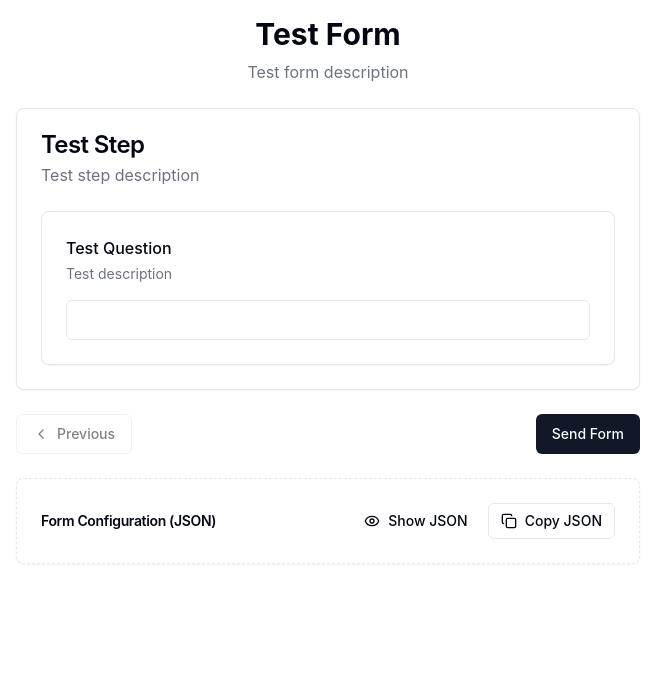
it: FormPreview Integration Tests › Form Submission › should submit form and show success message
# Fill the form
Type "Test Response" into the field at [328, 320], box [66,300,590,340]
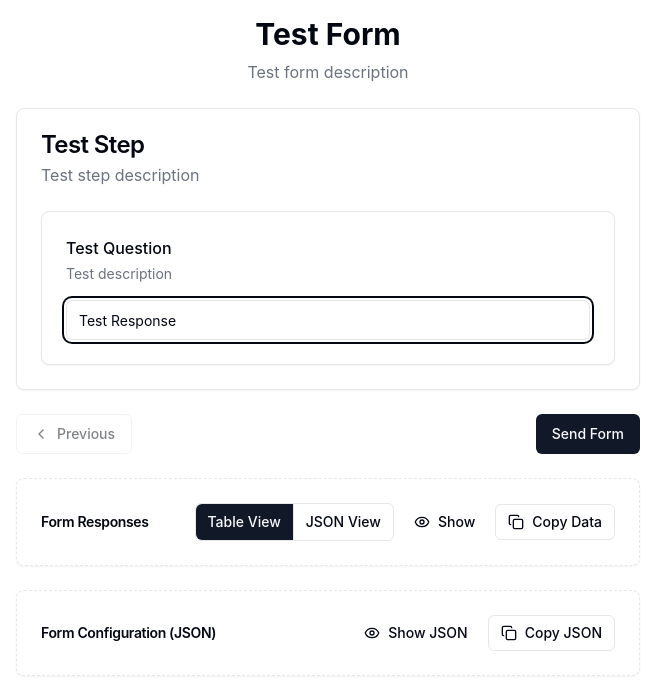
# Submit the form
Click the button "Send Form" at [588, 434], box [536,414,640,454]
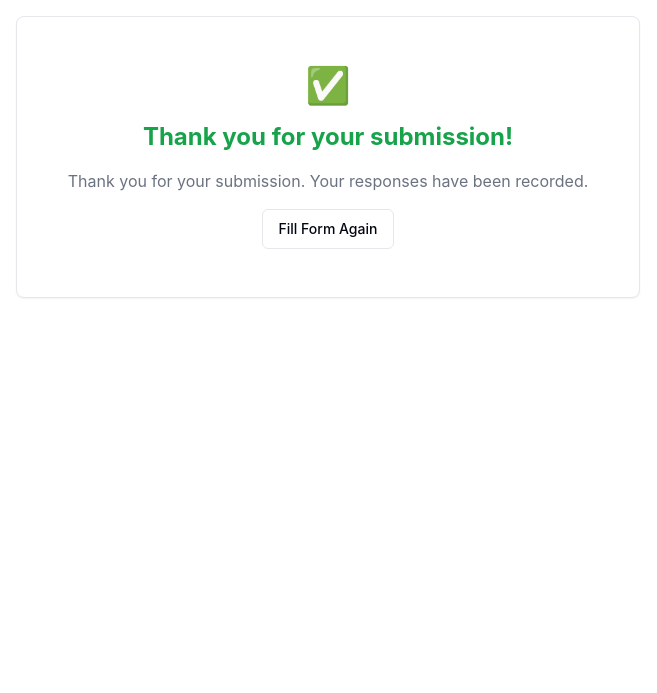
expect the heading "Thank you for your submission!" is shown: met, box [143,122,513,151]
expect the button "Fill Form Again" is shown: met, box [262,209,394,249]
